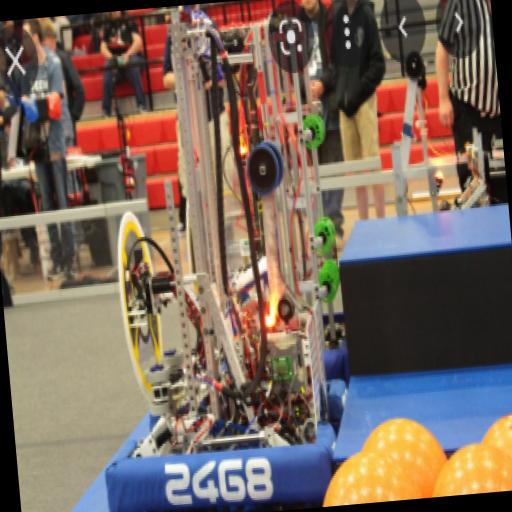robot: (64, 0, 356, 512)
